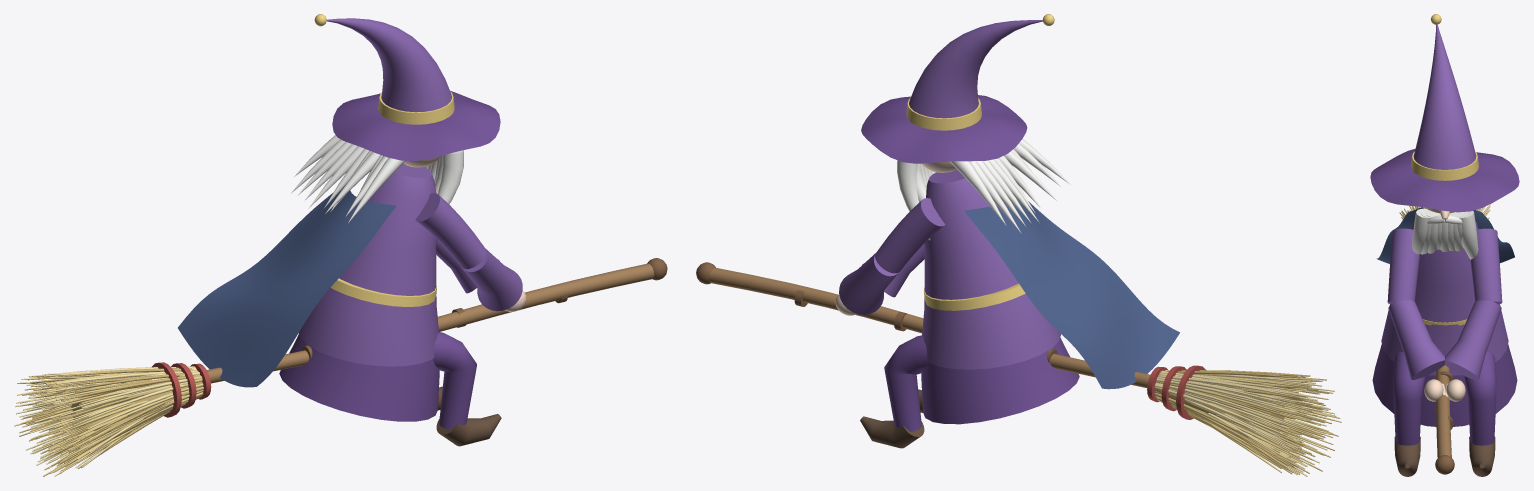
Rendered from wizard-on-broom.glb.
The picture shows the model from 3 angles, left to right: view 1: azimuth 30°, elevation 25°; view 2: azimuth 150°, elevation 25°; view 3: azimuth 270°, elevation 25°; orthographic projection. The views are drawn at different scales.
Parts seen in each view (by area): view 1: WizardOnBroom; view 2: WizardOnBroom; view 3: WizardOnBroom.
Part boxes in pixels (<box>): WizardOnBroom: <box>14,14,667,476</box>; WizardOnBroom: <box>696,14,1341,476</box>; WizardOnBroom: <box>1370,14,1519,476</box>.
Bounding box in the file's own units: 2.93 × 2 × 0.68.
